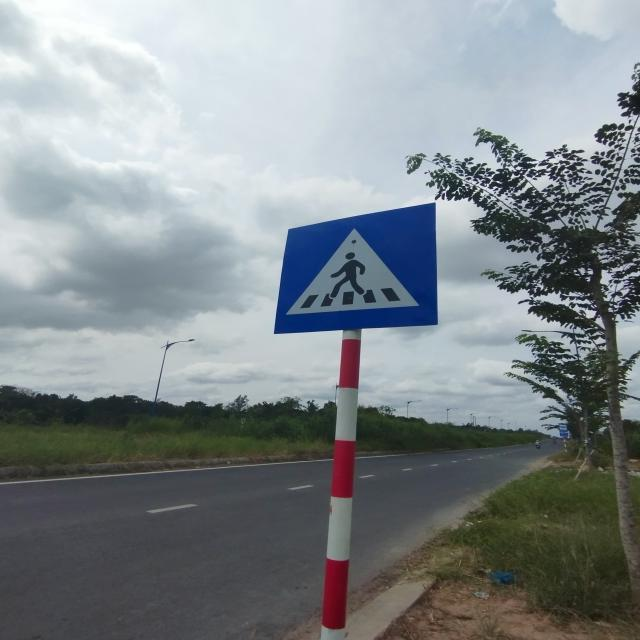Giao_Nhau_Duong_Uu_Tien: (276, 203, 436, 335)
